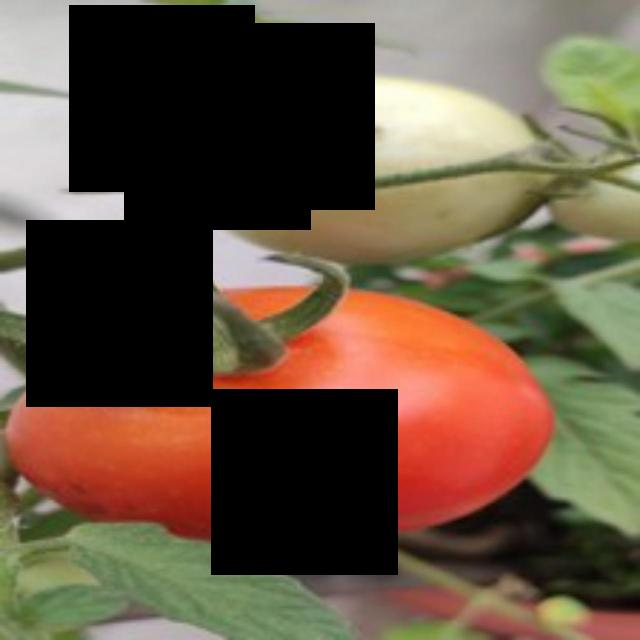tomato: (11, 289, 576, 528)
